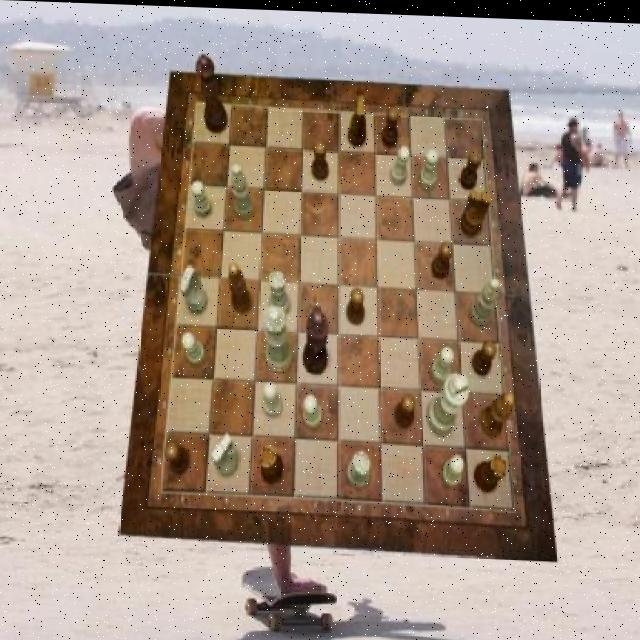bishop: (480, 386, 515, 433), (228, 260, 252, 312)
black-bishop: (303, 303, 329, 373)
black-king: (462, 186, 492, 234), (348, 92, 365, 143)
black-knight: (472, 335, 497, 372), (460, 147, 483, 186), (164, 442, 190, 475), (394, 390, 416, 425), (432, 237, 452, 275), (312, 138, 330, 177), (383, 105, 400, 146), (348, 286, 365, 322)
black-pawn: (197, 53, 229, 133)
black-queen: (476, 451, 508, 490), (260, 443, 284, 482)
black-rook: (469, 274, 499, 326), (230, 162, 254, 219)
white-bishop: (426, 369, 469, 433)
white-king: (180, 264, 209, 314), (210, 431, 238, 474)
white-knight: (431, 342, 454, 380), (420, 146, 440, 188), (182, 330, 206, 364), (443, 450, 466, 485), (391, 142, 411, 181), (192, 180, 212, 216), (263, 380, 283, 415), (303, 392, 322, 427)
white-pawn: (264, 305, 294, 373)
white-queen: (270, 268, 292, 314), (348, 449, 370, 487)
